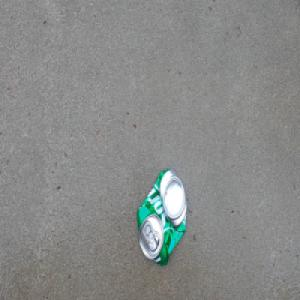SodaCan: (136, 166, 188, 268)
